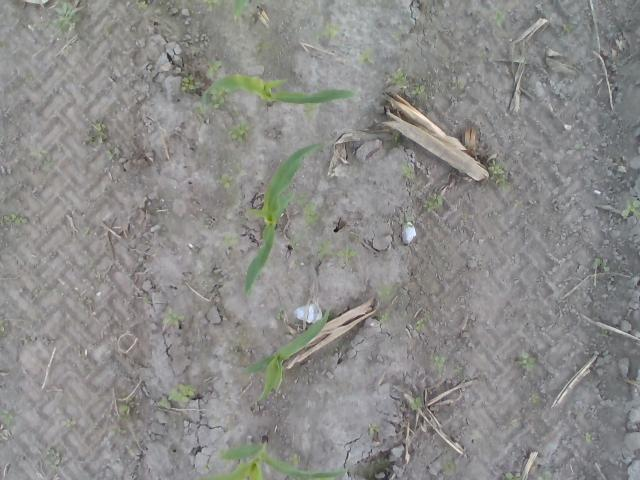Maize: (244, 144, 324, 296), (239, 308, 328, 402), (198, 71, 356, 114), (206, 439, 346, 480), (231, 0, 248, 18)
Weeds: (158, 382, 199, 410), (82, 118, 109, 145), (31, 146, 56, 175), (310, 21, 340, 44), (160, 303, 187, 326), (488, 160, 507, 190), (229, 123, 252, 144), (422, 192, 446, 211), (112, 398, 132, 420), (389, 68, 410, 88), (493, 6, 512, 28), (516, 352, 540, 368), (0, 212, 29, 225), (303, 204, 321, 224), (358, 48, 378, 66), (621, 198, 640, 216), (180, 73, 196, 94), (215, 174, 236, 190), (432, 354, 447, 376), (316, 238, 334, 256), (399, 162, 417, 180), (207, 58, 224, 76), (450, 363, 466, 382), (592, 256, 610, 272), (208, 94, 226, 110), (46, 447, 61, 465), (441, 458, 456, 476), (190, 33, 208, 48), (409, 82, 426, 97), (374, 286, 392, 300), (105, 144, 120, 160), (34, 288, 64, 296), (223, 233, 240, 246), (336, 248, 358, 258), (302, 101, 320, 113), (408, 396, 426, 408), (398, 215, 416, 227), (503, 419, 519, 432), (110, 426, 130, 436), (204, 0, 222, 11), (296, 192, 308, 208), (448, 78, 464, 90), (375, 311, 393, 321), (0, 412, 13, 425), (288, 453, 302, 465), (561, 22, 573, 36), (528, 394, 544, 404), (536, 470, 552, 480), (134, 0, 150, 10), (0, 318, 8, 336), (504, 472, 522, 480), (390, 130, 400, 144), (415, 318, 425, 330), (88, 256, 95, 272), (66, 418, 76, 429), (391, 30, 402, 40), (368, 423, 379, 433), (142, 294, 152, 305), (583, 432, 592, 444), (302, 223, 312, 232), (479, 52, 488, 62), (84, 224, 90, 239), (291, 240, 301, 248), (600, 329, 608, 337), (276, 312, 282, 320)
